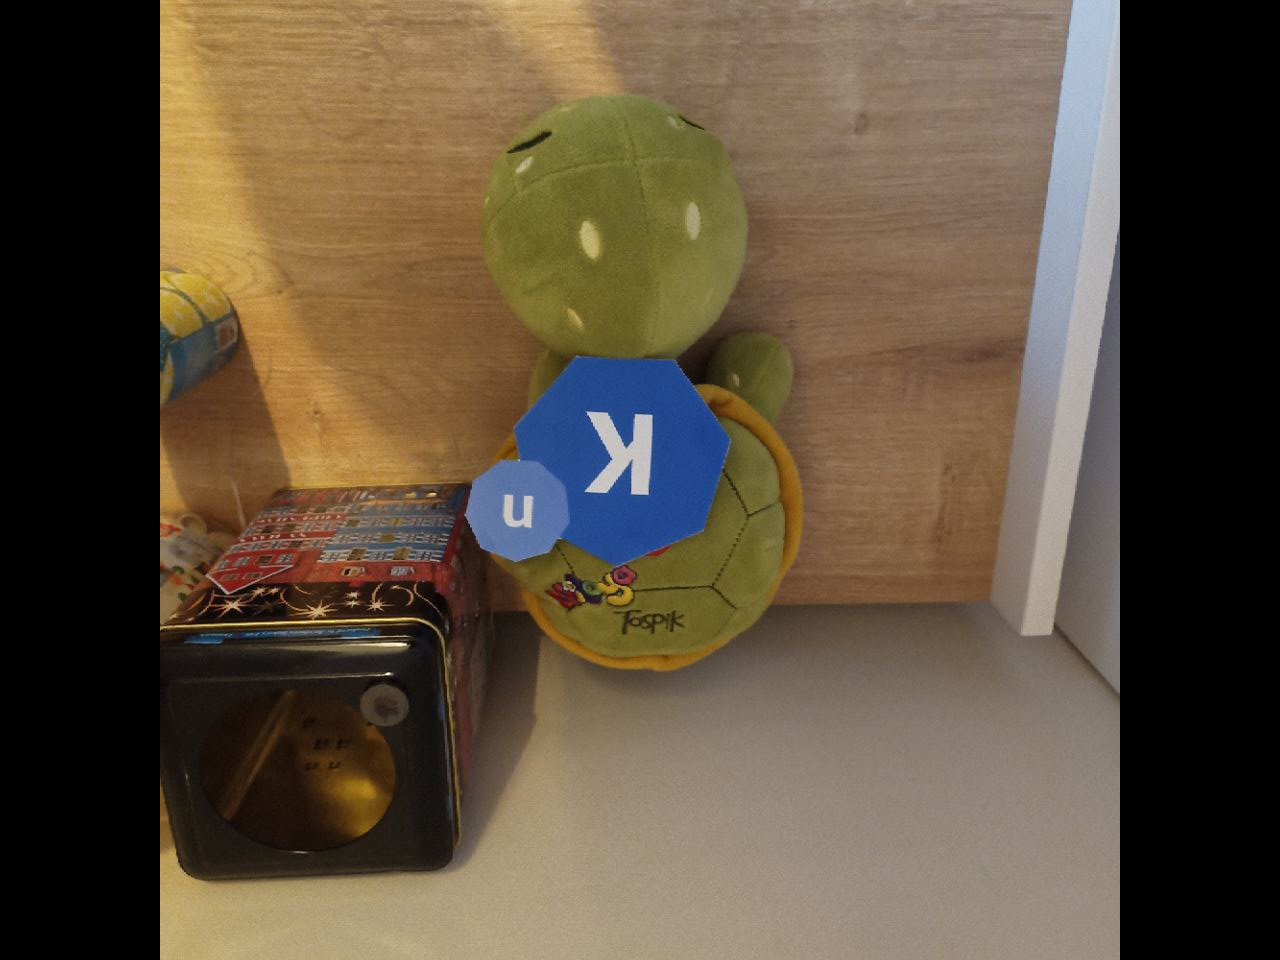knative: (466, 355, 730, 562)
